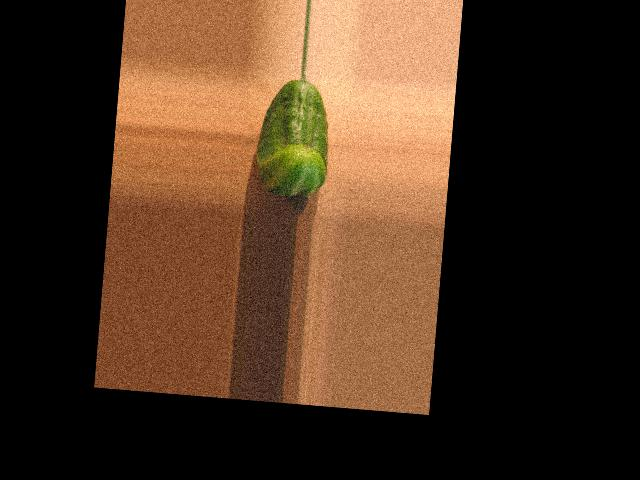cucumber: (254, 76, 335, 199)
